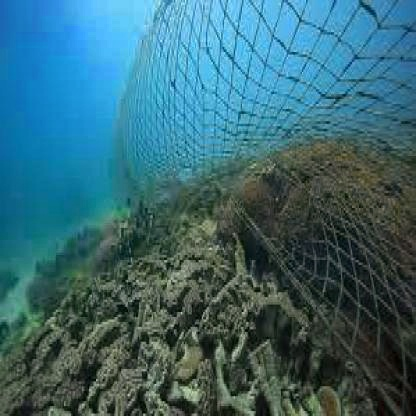net: (129, 5, 416, 416)
